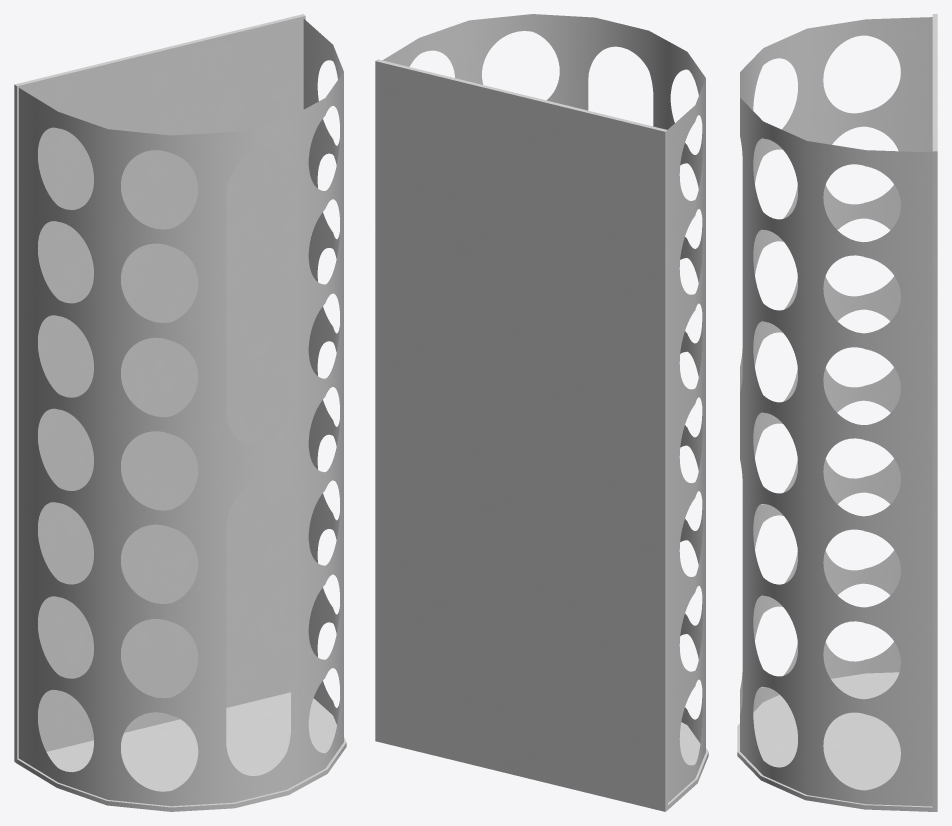
File: plastic_bag_holder.FBX
The picture shows the model from 3 angles, left to right: view 1: azimuth 30°, elevation 25°; view 2: azimuth 150°, elevation 25°; view 3: azimuth 270°, elevation 25°; orthographic projection. The views are drawn at different scales.
Visible parts, largest first — view 1: plastic bag holder; view 2: plastic bag holder; view 3: plastic bag holder.
Part boxes in pixels (<box>): plastic bag holder: <box>14,14,346,811</box>; plastic bag holder: <box>375,14,708,811</box>; plastic bag holder: <box>737,14,937,811</box>.
Size of the model in its own units: 20.28 by 45.44 by 12.49.
1 material, 1 textured.
